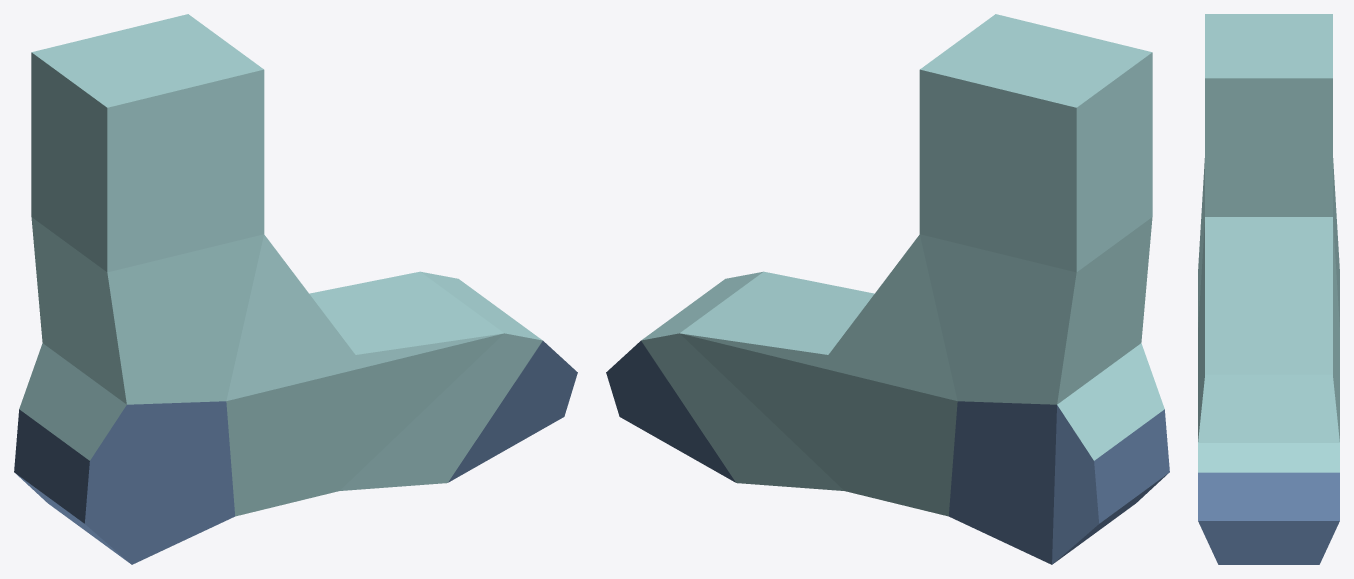
File: nice_socks.glb
3 views of the same model, side by side, from view 1: azimuth 30°, elevation 25°; view 2: azimuth 150°, elevation 25°; view 3: azimuth 270°, elevation 25° (orthographic). The views are drawn at different scales.
Visible parts, largest first — view 1: Cube; view 2: Cube; view 3: Cube.
Part boxes in pixels (<box>): Cube: <box>14,14,577,564</box>; Cube: <box>606,14,1169,564</box>; Cube: <box>1198,14,1339,564</box>.
Size of the model in its own units: 3.33 by 3.05 by 1.
1 material, 1 textured.
